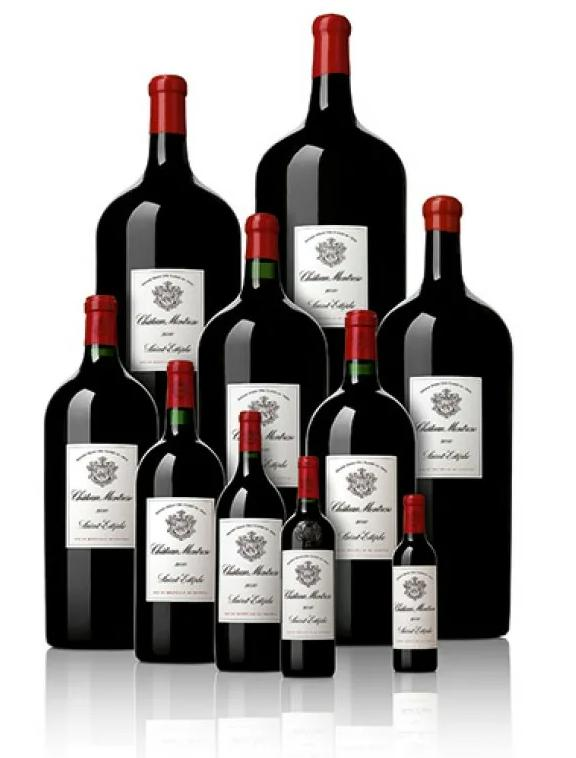wine bottle: (376, 193, 512, 640), (255, 13, 407, 396), (95, 74, 241, 440), (45, 294, 160, 651), (197, 212, 329, 518), (301, 310, 417, 649), (133, 360, 226, 664), (216, 410, 286, 672), (281, 455, 336, 679), (392, 494, 438, 673)
wine label: (129, 268, 205, 373), (292, 225, 368, 330), (408, 374, 483, 480), (325, 454, 398, 562), (64, 443, 138, 549), (227, 383, 300, 489), (146, 495, 215, 603), (217, 518, 282, 624), (282, 549, 334, 640), (393, 565, 437, 649)
